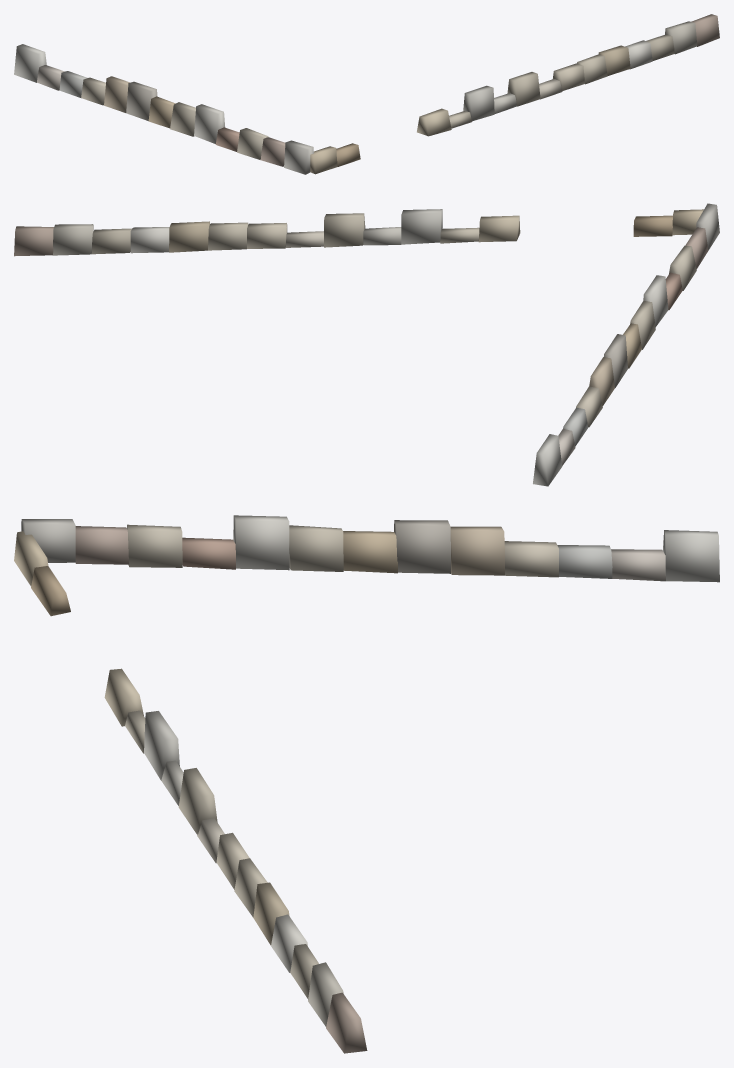
Rendered from farm_30_22_far.glb.
3 renders of one model, top to bottom at view 1: azimuth 30°, elevation 25°; view 2: azimuth 150°, elevation 25°; view 3: azimuth 270°, elevation 25°, orthographic. The views are drawn at different scales.
Visible parts, largest first — view 1: geometry_0; view 2: geometry_0; view 3: geometry_0.
Part boxes in pixels (x1,y1,x2,y2): geometry_0: (14, 14, 719, 174); geometry_0: (14, 203, 719, 486); geometry_0: (14, 515, 719, 1053).
Bounding box in the file's own units: 31.06 × 4.54 × 20.6.
